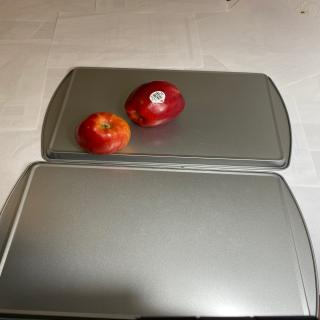Apple: (124, 80, 186, 127), (75, 112, 131, 155)
